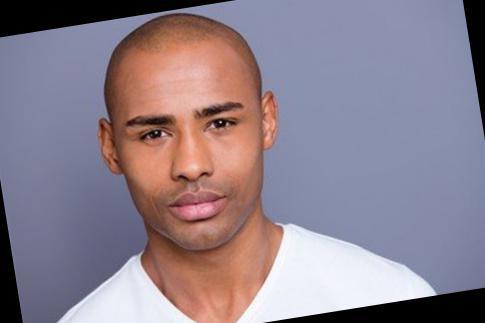Sober: (110, 61, 255, 236)
